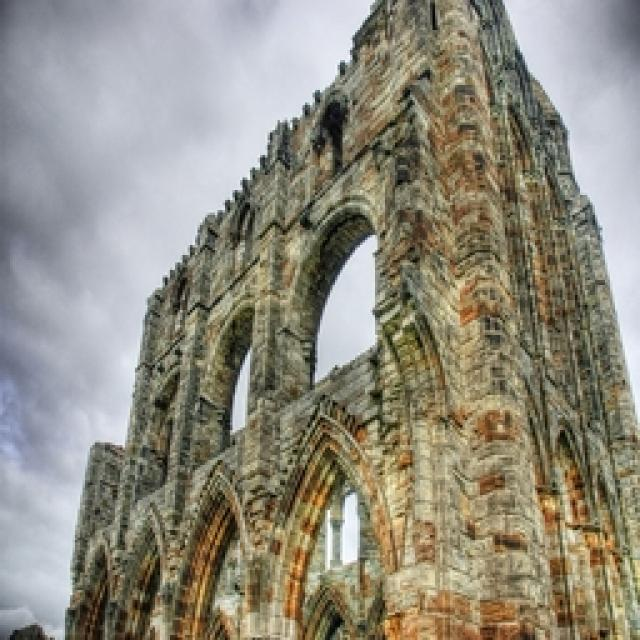Abbey: (120, 99, 640, 630)
